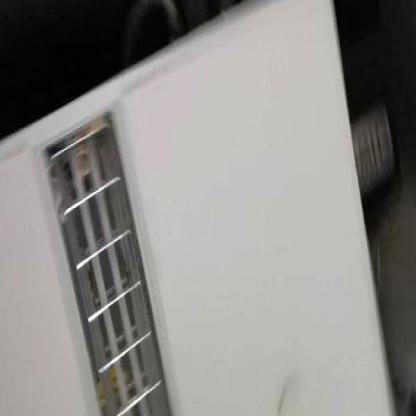light_off: (27, 85, 196, 415)
